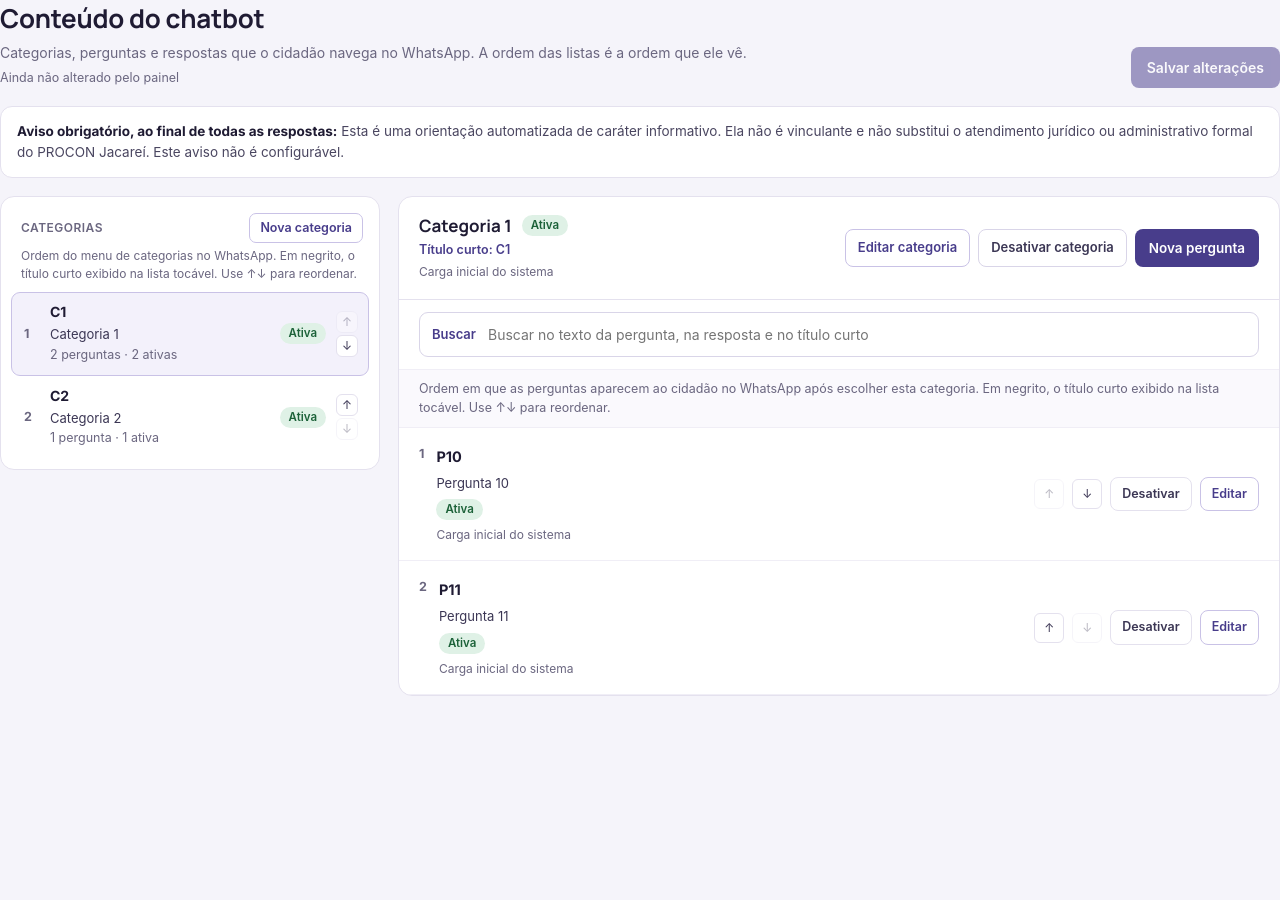
Test: ContentPage › o painel lateral mostra a carga inicial quando a pergunta nunca foi alterada
Check: the heading "Categorias" is shown, box top-left (21, 219), bottom-right (103, 237)
Check: the text "P10" is shown, box top-left (436, 448), bottom-right (462, 465)
Click the button with aria-label "Editar P10".
click(1229, 494)  # box top-left (1200, 477), bottom-right (1259, 512)
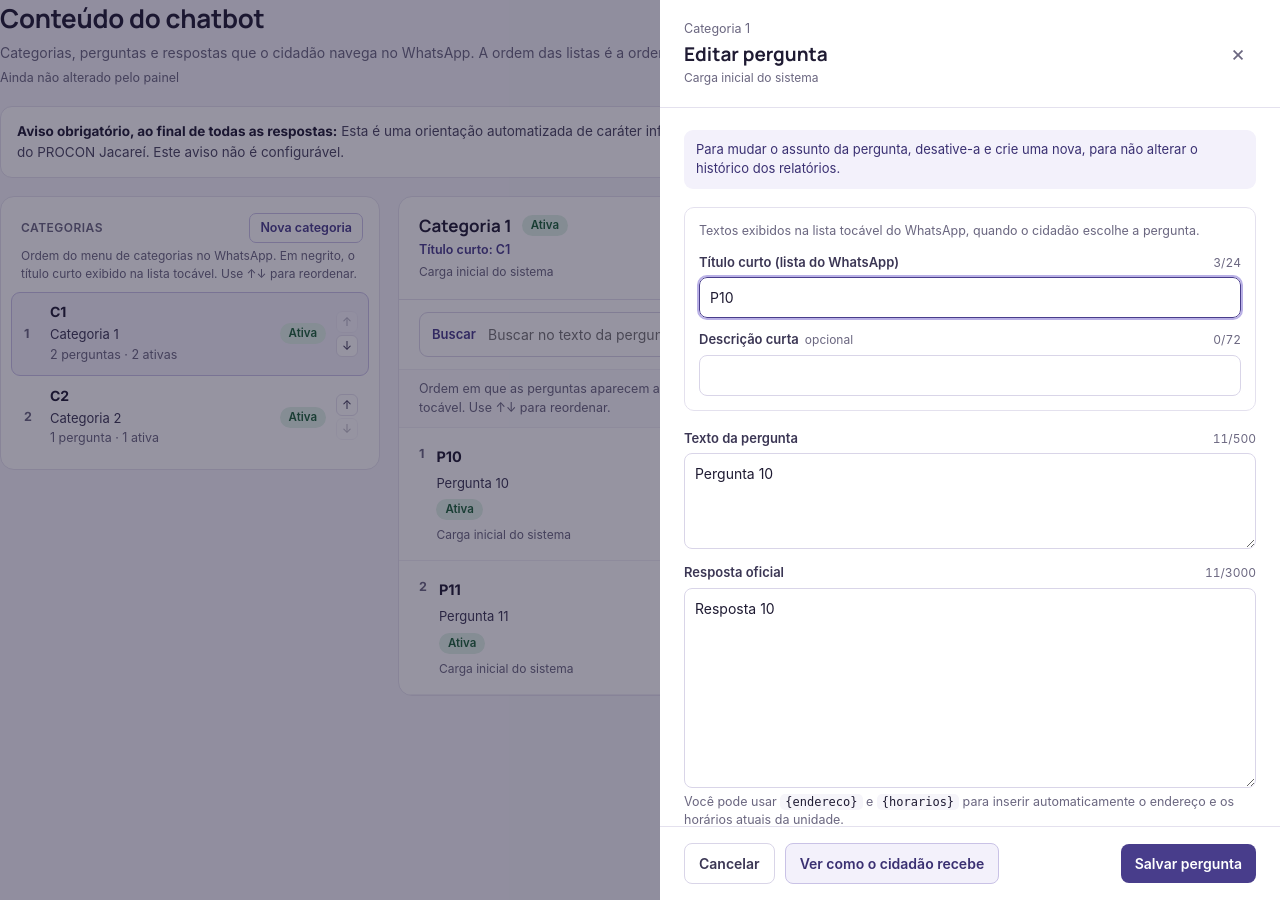
Check: the text "Carga inicial do sistema" is shown, box top-left (684, 69), bottom-right (828, 87)
